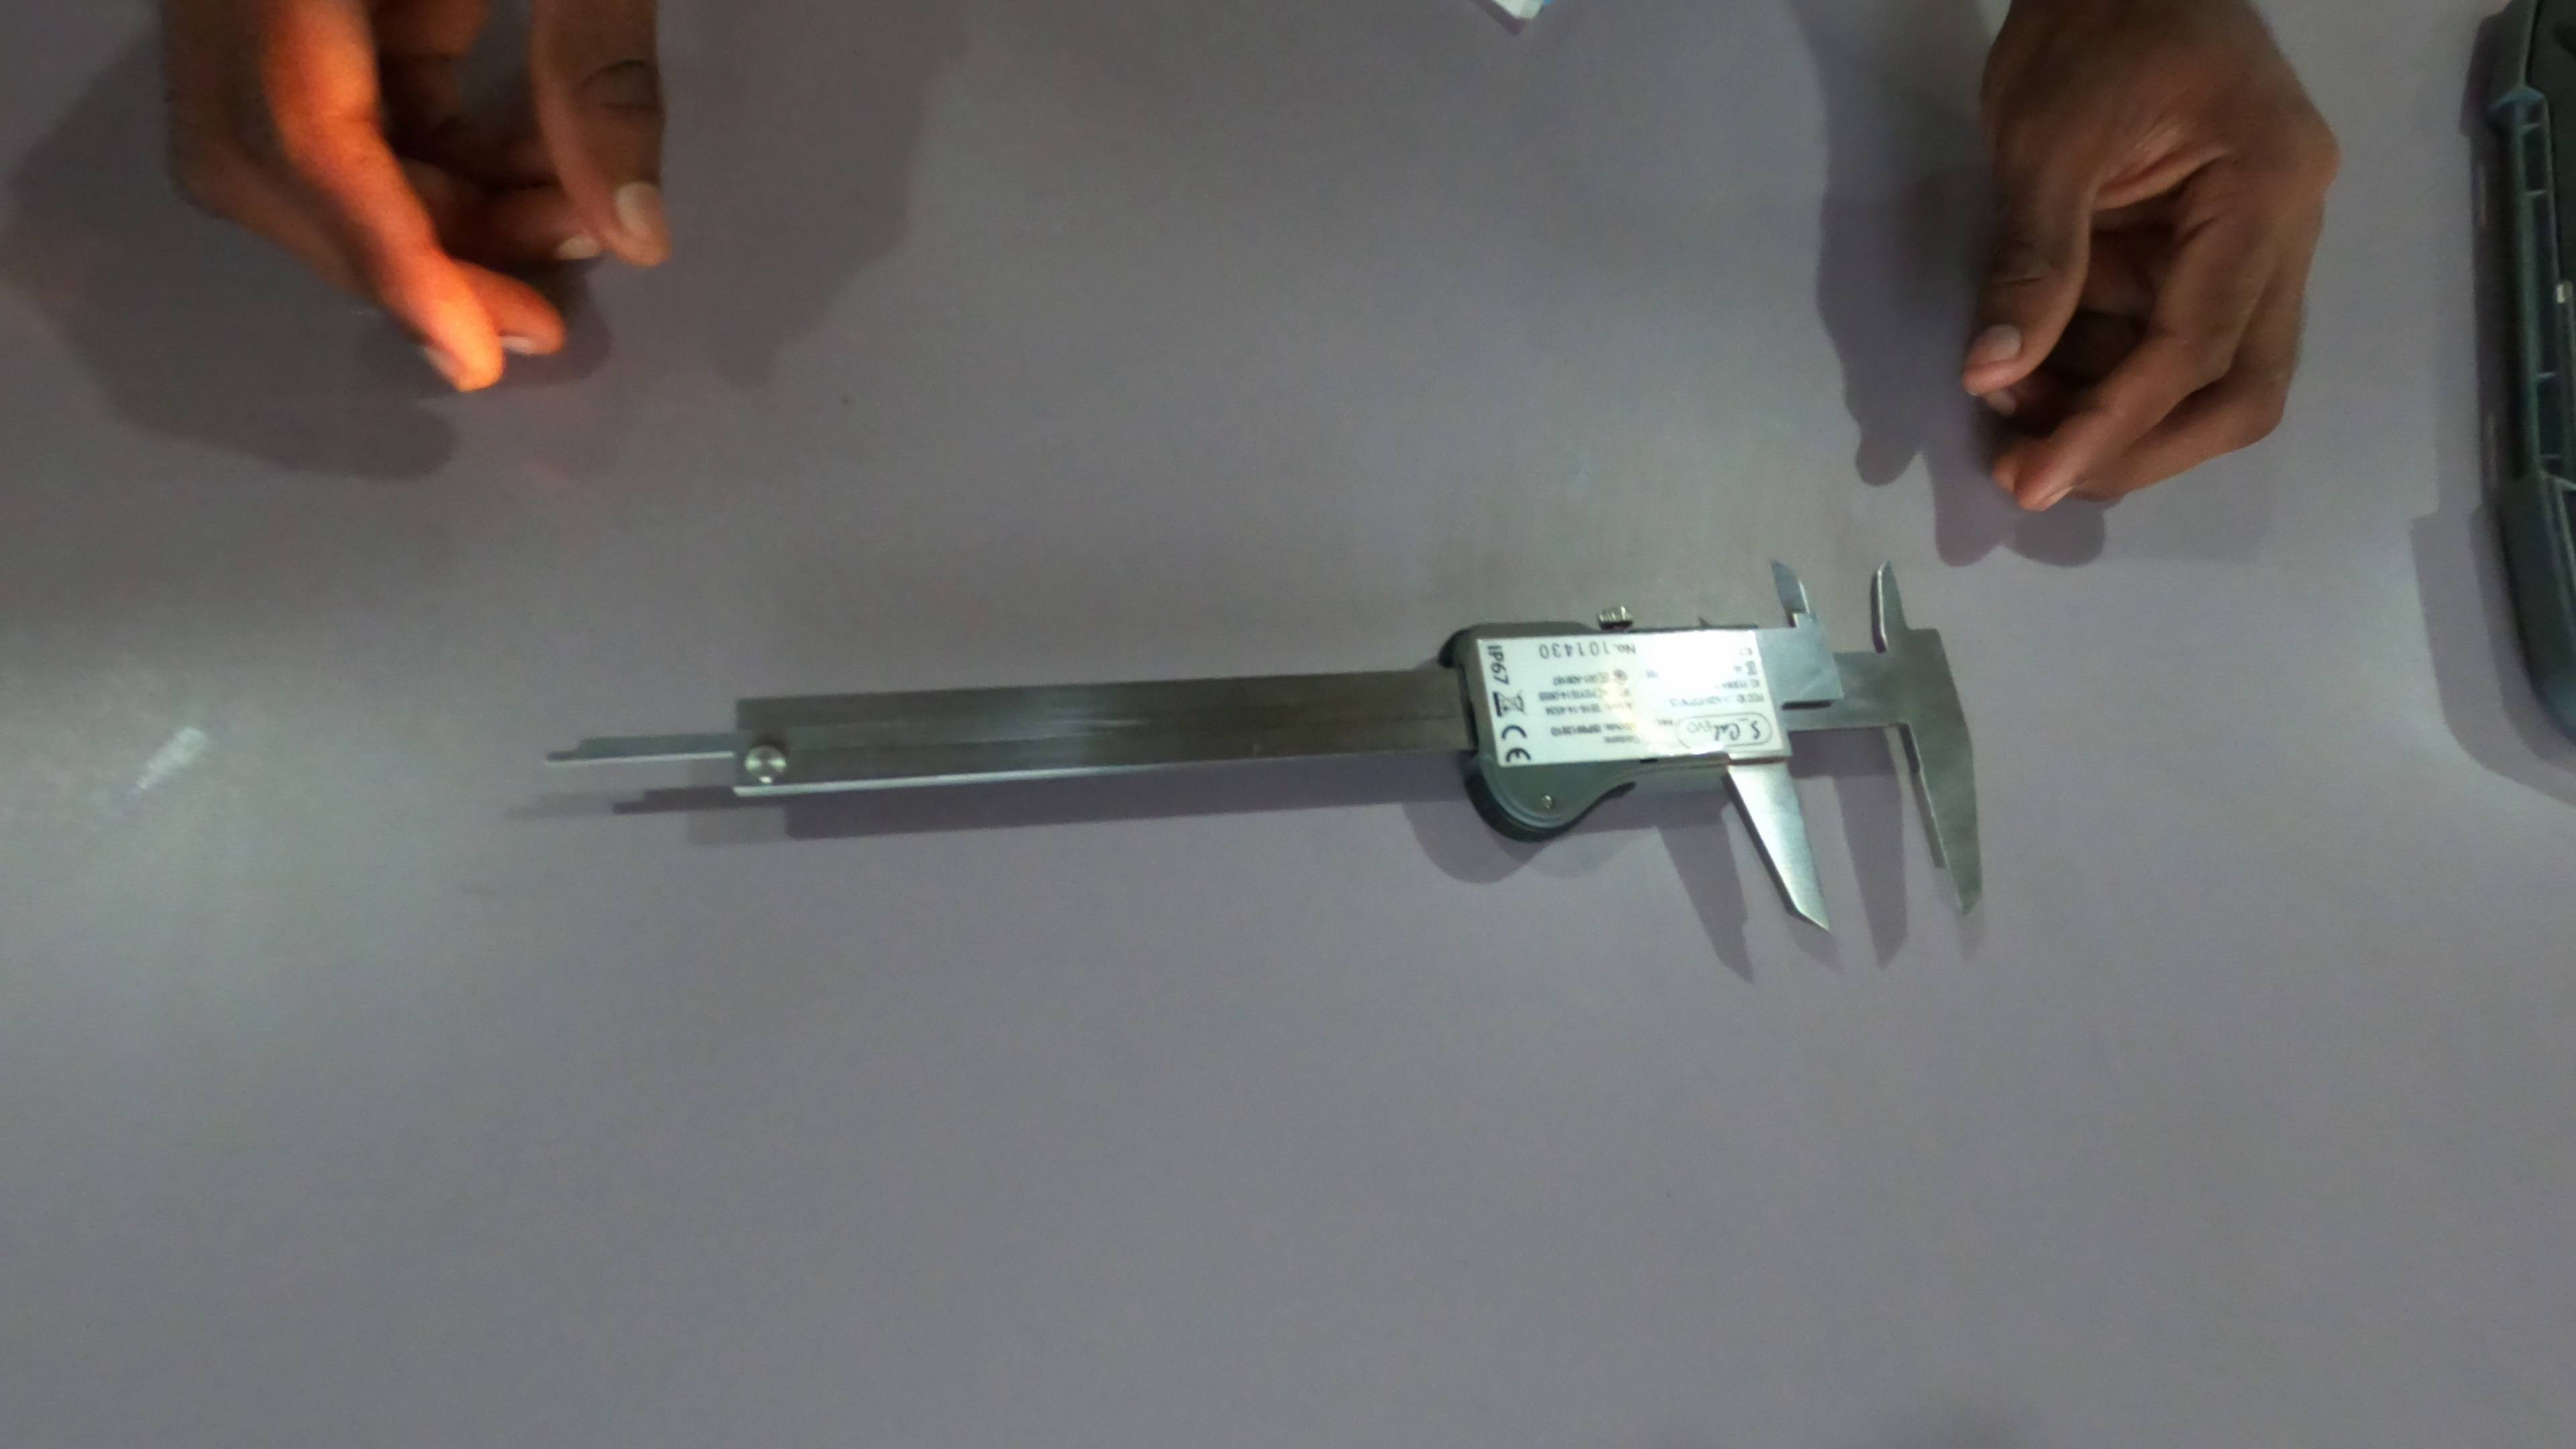vernier_caliper: (543, 566, 1997, 932)
